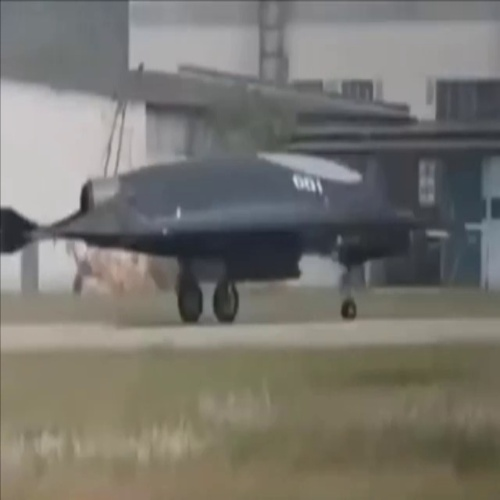uav: (14, 152, 417, 322)
